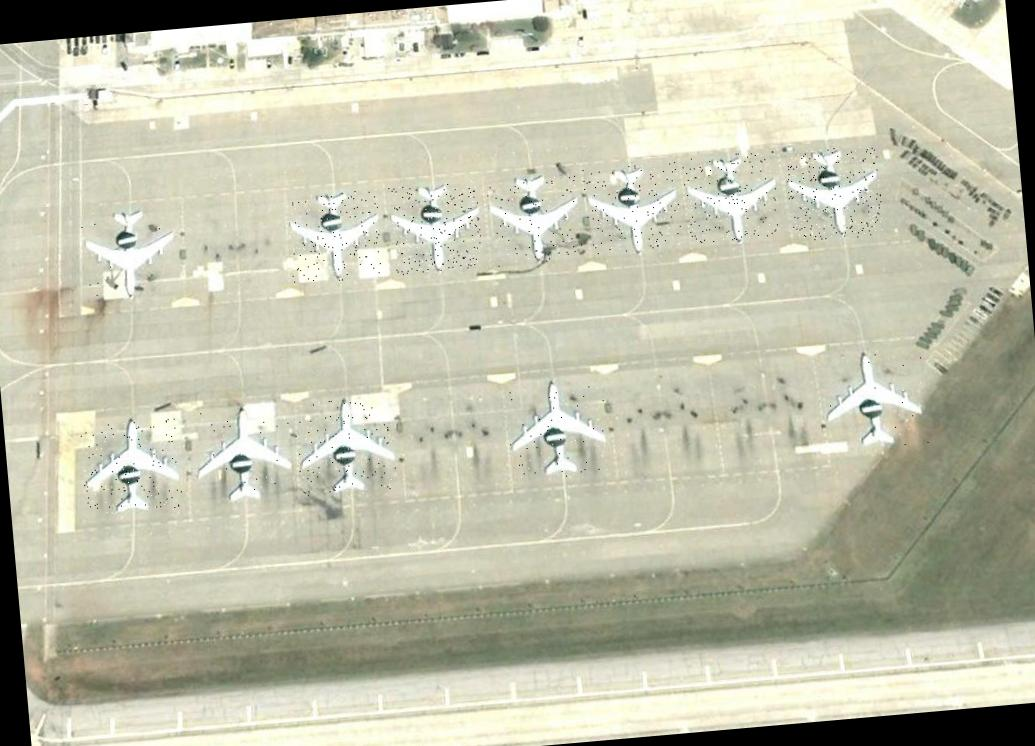A7: (503, 375, 611, 481), (819, 346, 928, 451), (292, 394, 396, 499), (78, 418, 183, 515), (190, 404, 294, 501), (784, 144, 884, 243), (681, 150, 782, 246), (285, 188, 383, 284), (582, 162, 682, 256), (78, 206, 177, 300), (485, 172, 582, 267), (388, 180, 482, 275)
